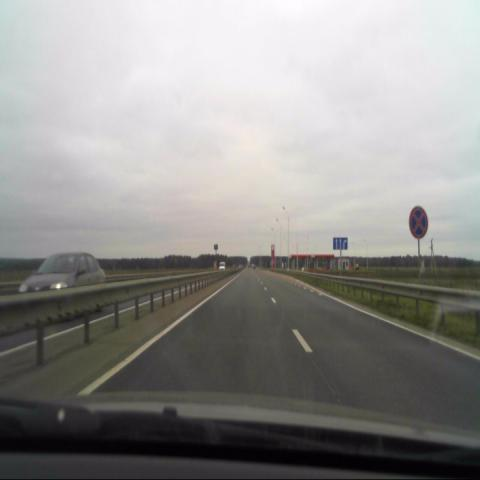3_27: (410, 205, 428, 241)
5_15_1: (332, 236, 348, 250)
